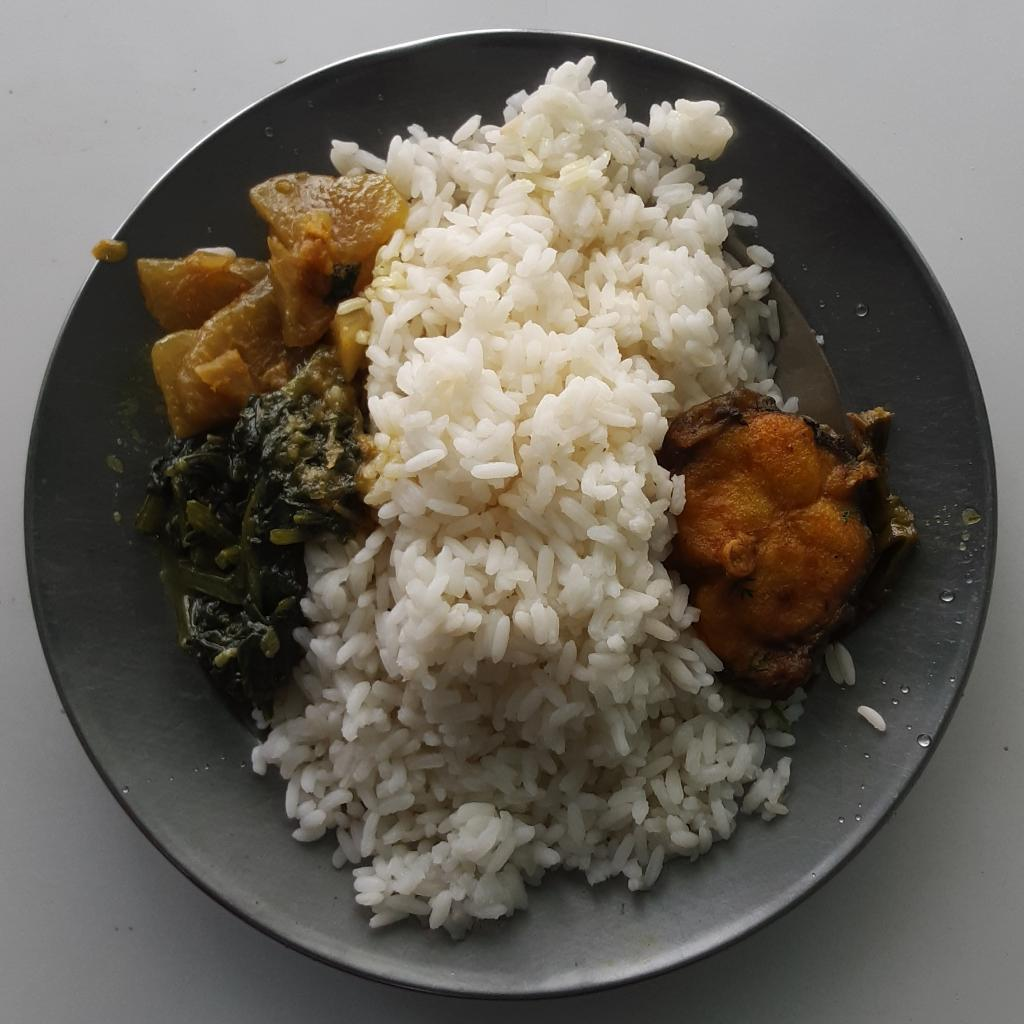fish: (661, 385, 924, 687)
papaya: (139, 175, 398, 437)
rice: (252, 54, 803, 951)
shak: (137, 356, 370, 728)
